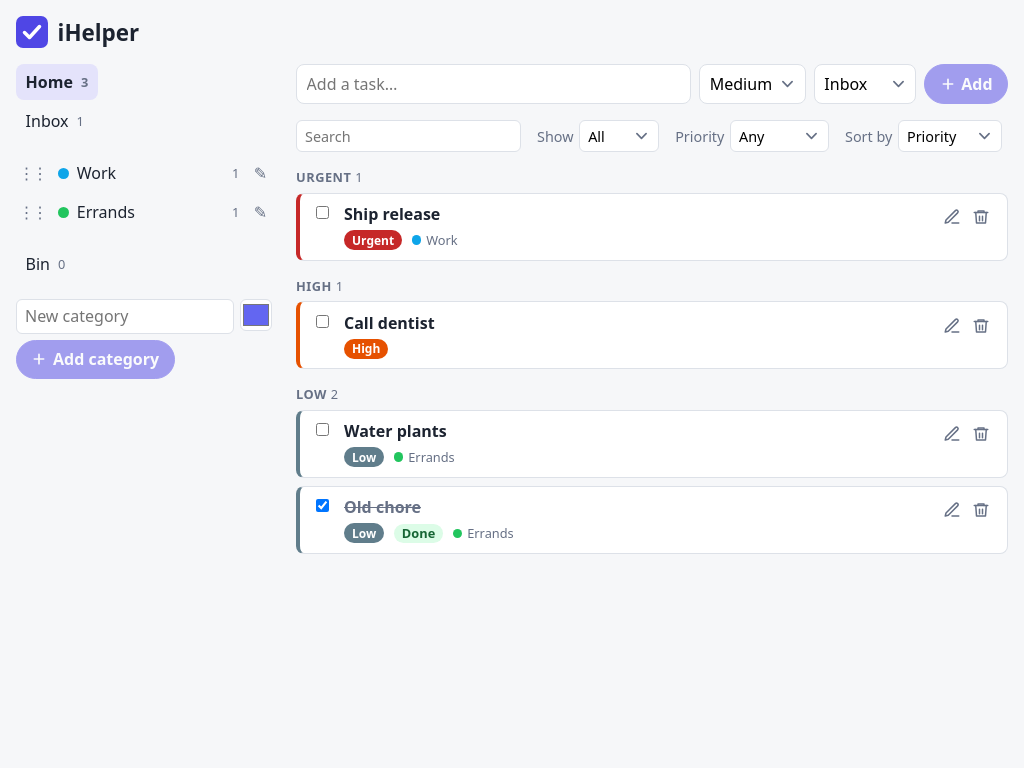
Test: App › Select all ticks every task in the bin
Expected: the button "Call dentist" is shown, 344,312 -> 435,334
What coordinates should you click on to do the following:
click the button named "Delete Call dentist"
I would click on:
 (981, 326)
Its box is 967,312 -> 995,339.
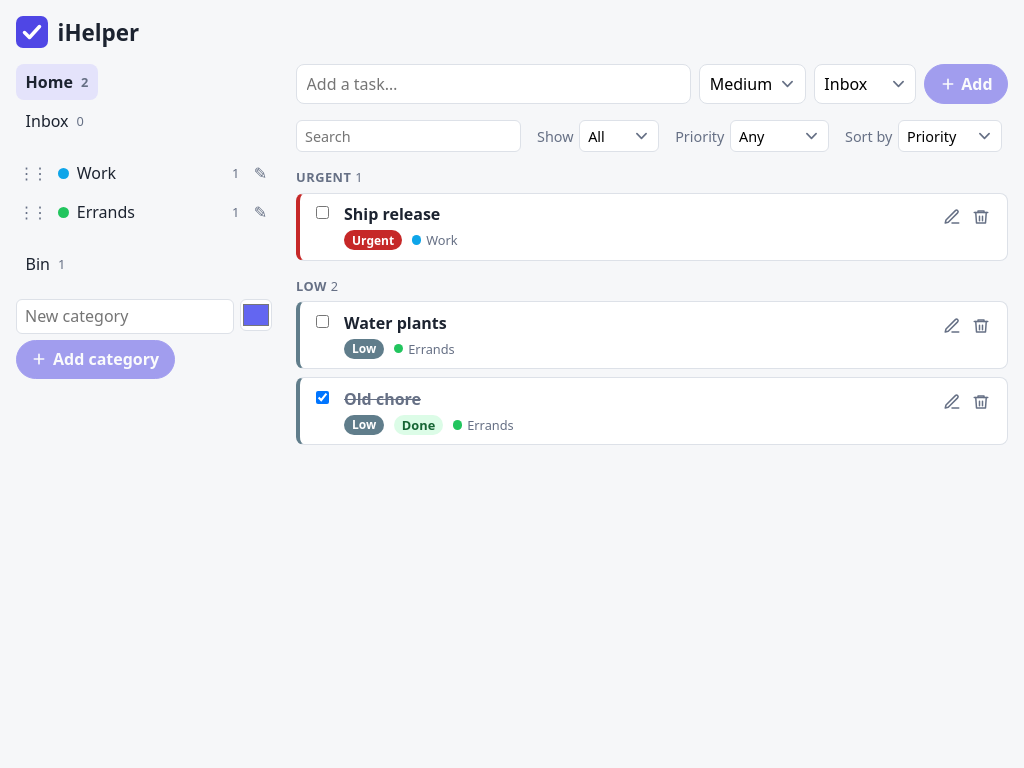
What coordinates should you click on to do the following:
click the button named "Delete Water plants"
I would click on:
 (981, 326)
Its box is 967,312 -> 995,339.
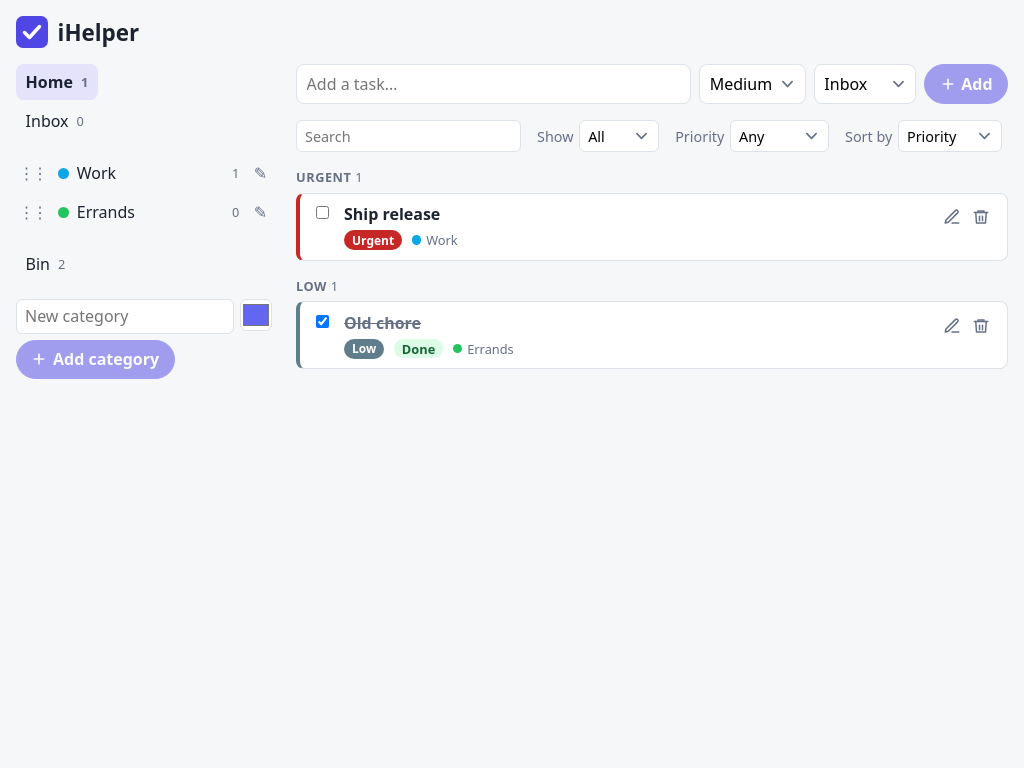
What coordinates should you click on to do the following:
click the button "Bin 2"
I would click on:
 (45, 264)
Its box is 16,246 -> 75,283.
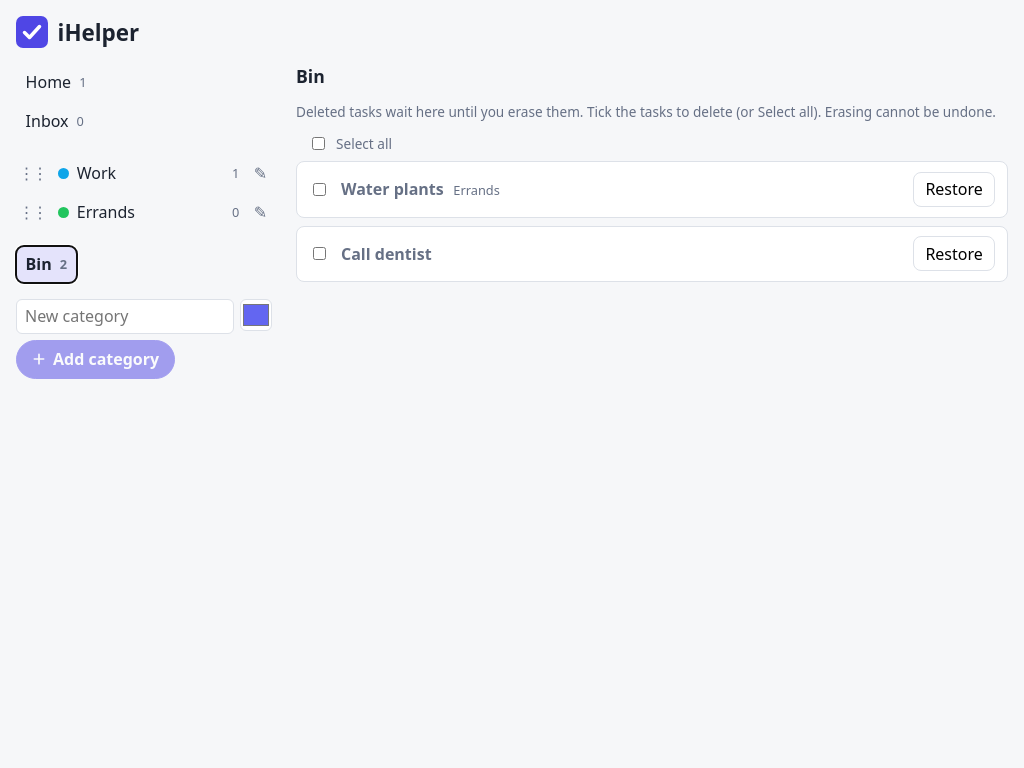
What coordinates should you click on to do the following:
click the checkbox labelled "Select all"
I would click on:
 (318, 144)
Its box is 312,137 -> 325,150.
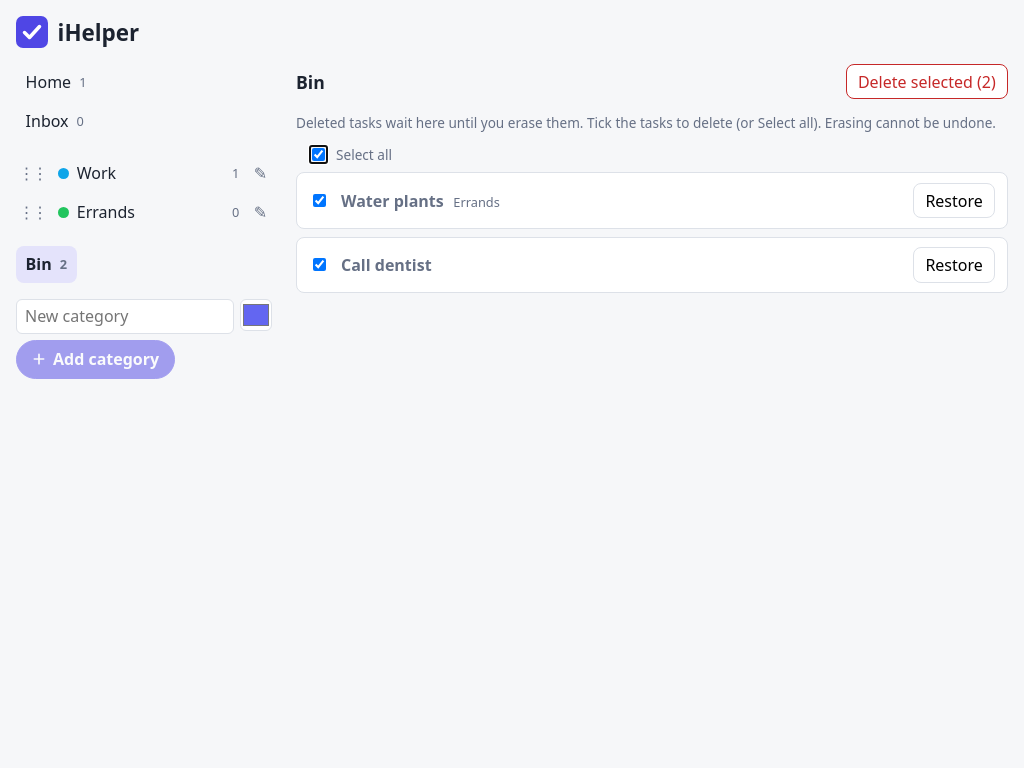
Now the checkbox named "Select Call dentist" is checked, box 313,258 -> 326,271
Now the checkbox named "Select Water plants" is checked, box 313,194 -> 326,207
Now the button "Delete selected (2)" is shown, box 846,64 -> 1008,99
